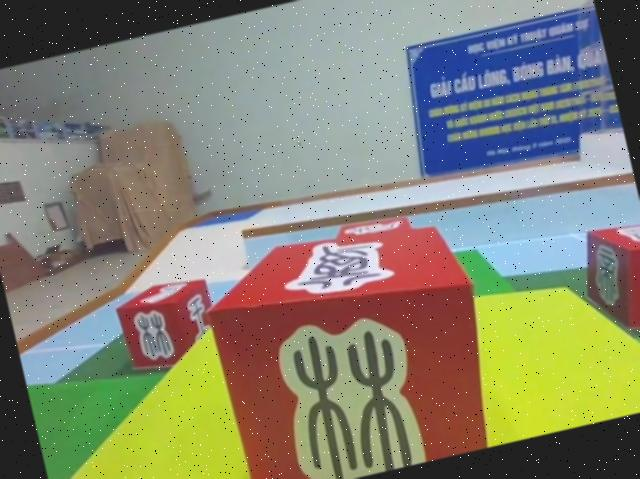R2 Fake: (191, 200, 511, 479), (108, 268, 224, 377), (570, 212, 640, 345)
